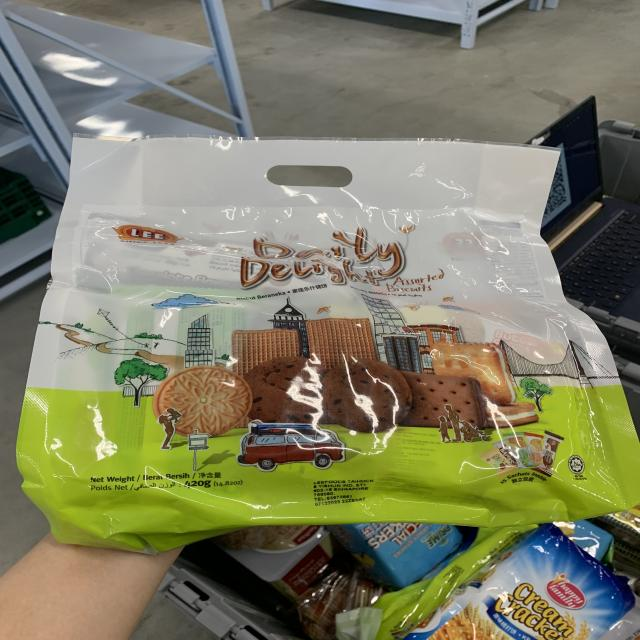object_name: (61, 139, 607, 513)
